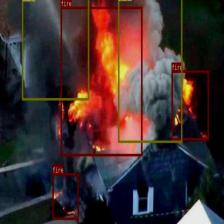fire: (60, 6, 142, 156), (171, 69, 209, 140), (52, 173, 78, 219)
smoke: (118, 0, 182, 142), (22, 0, 89, 99)
